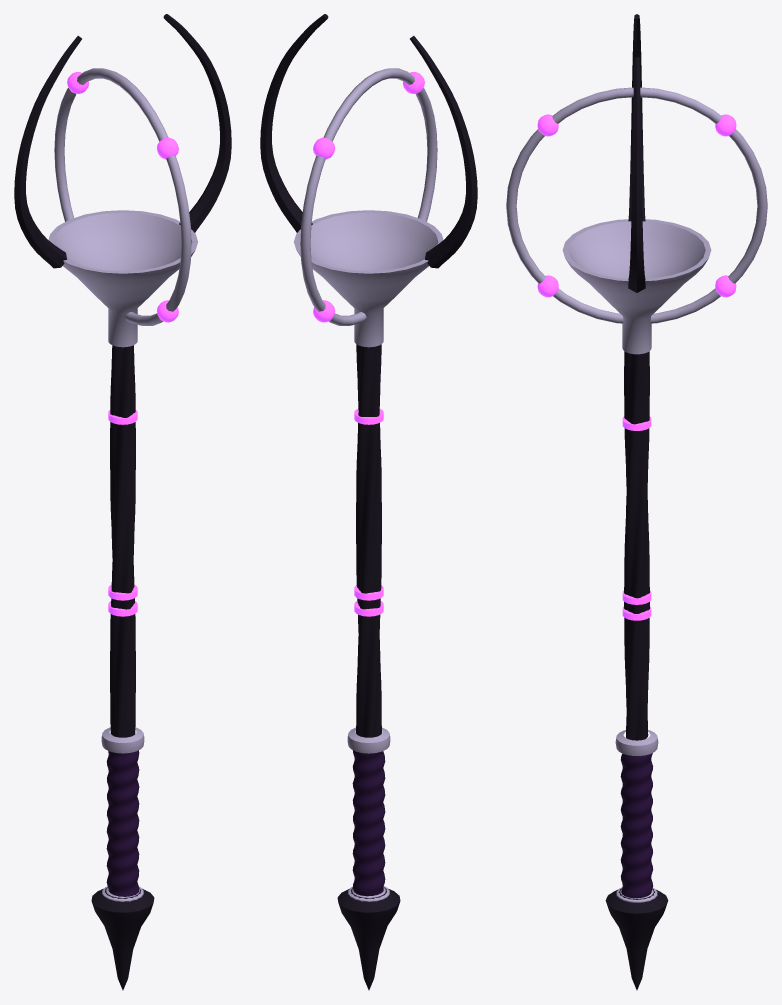
File: scepter_void.glb
3 views of the same model, side by side, from view 1: azimuth 30°, elevation 25°; view 2: azimuth 150°, elevation 25°; view 3: azimuth 270°, elevation 25° (orthographic).
Visible parts, largest first — view 1: scepter_void; view 2: scepter_void; view 3: scepter_void.
Boxes of the visible parts, bbox=[...] form: scepter_void: bbox=[14, 14, 231, 990]; scepter_void: bbox=[260, 14, 477, 990]; scepter_void: bbox=[506, 14, 767, 990].
Bounding box in the file's own units: 0.2135 × 0.9067 × 0.225.
